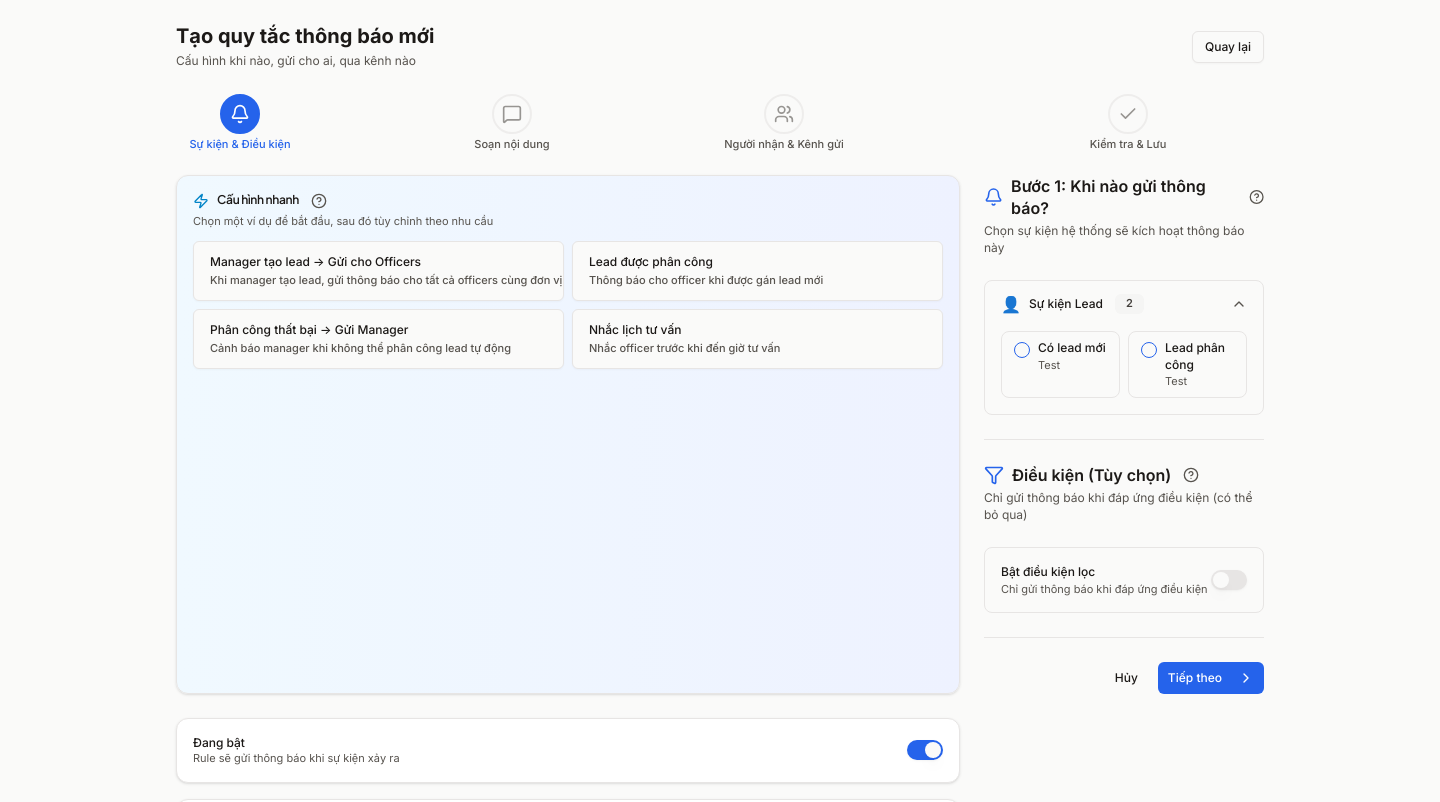
Test: NotificationRuleEditor — step navigation › blocks Next when no event is selected — shows inline error on click
The width and height of the screenshot is (1440, 802).
Click the button "Tiếp theo": [1211, 678] box [1158,662,1264,694]
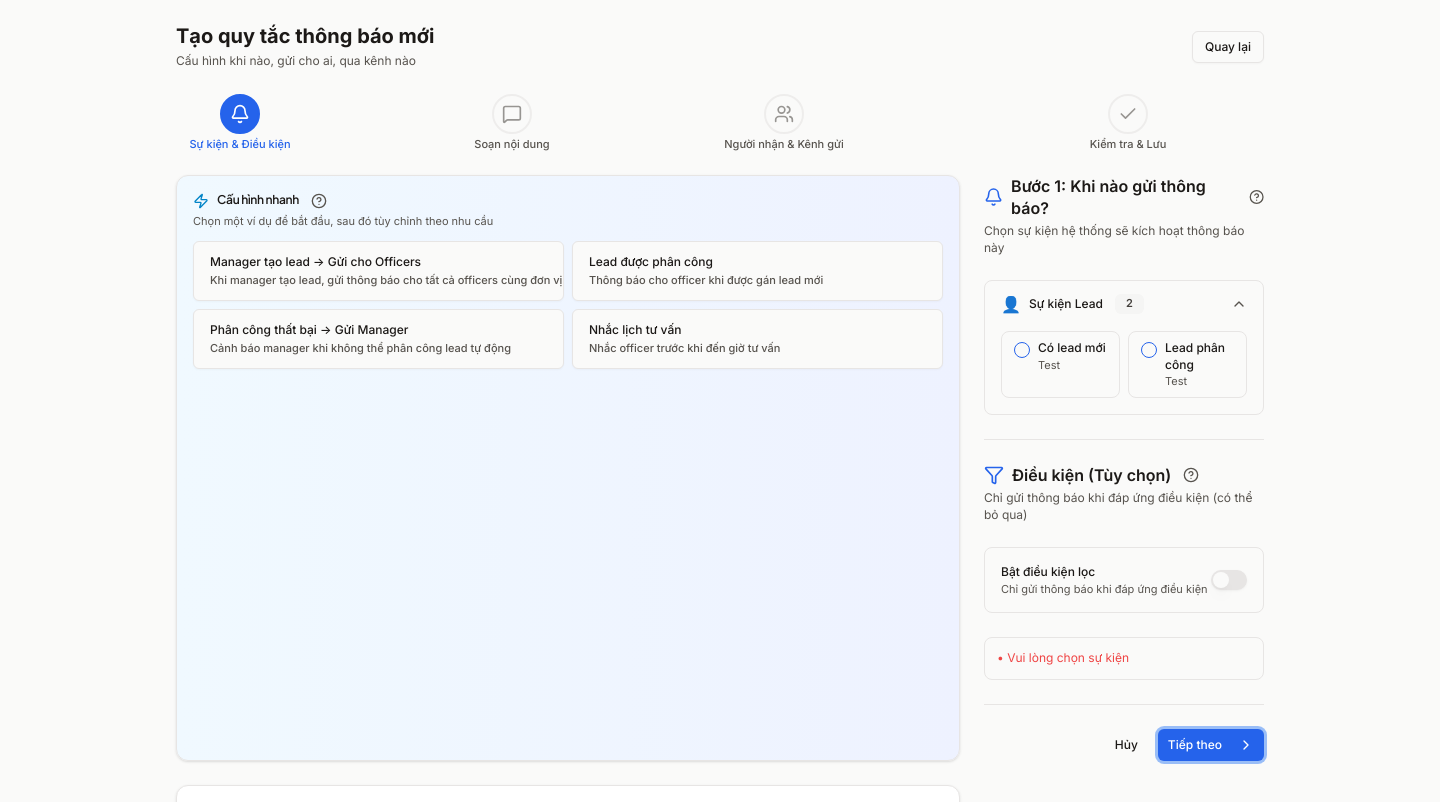
expect the text "• Vui lòng chọn sự kiện" is shown: met, box [997,650,1129,665]
